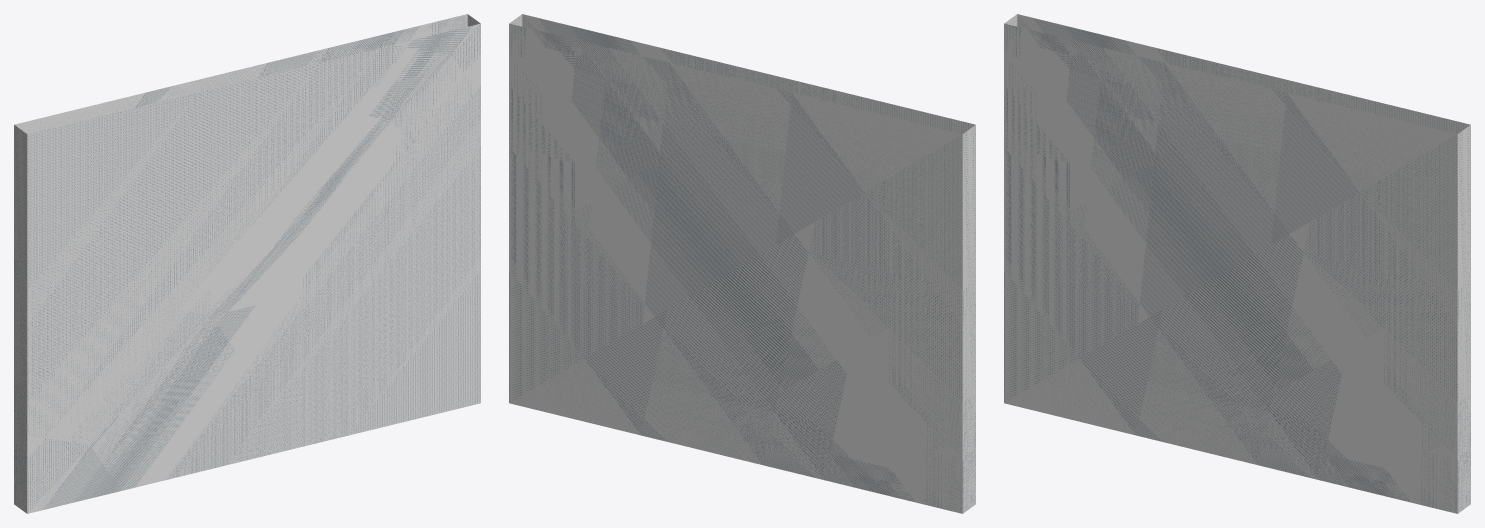
The model's file is BlockWall_ds_5x4x025.dae.
3 renders of one model, left to right at view 1: azimuth 30°, elevation 25°; view 2: azimuth 150°, elevation 25°; view 3: azimuth 330°, elevation 25°, orthographic.
Parts seen in each view (by area): view 1: group_0; view 2: group_0; view 3: group_0.
Boxes of the visible parts, bbox=[...] form: group_0: bbox=[14, 14, 480, 513]; group_0: bbox=[509, 14, 975, 513]; group_0: bbox=[1004, 14, 1470, 513].
Bounding box in the file's own units: 197 × 9.84 × 157.
